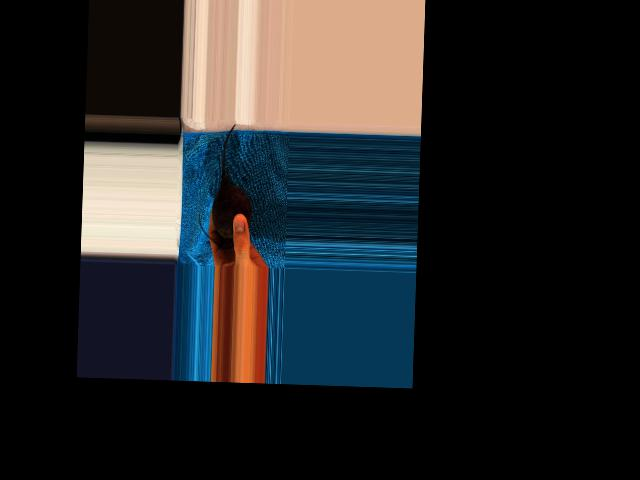beet: (198, 122, 255, 249)
